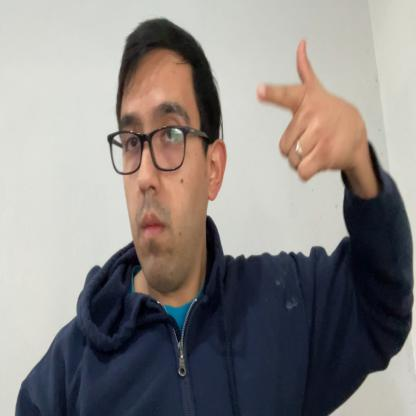G: (256, 36, 350, 181)
